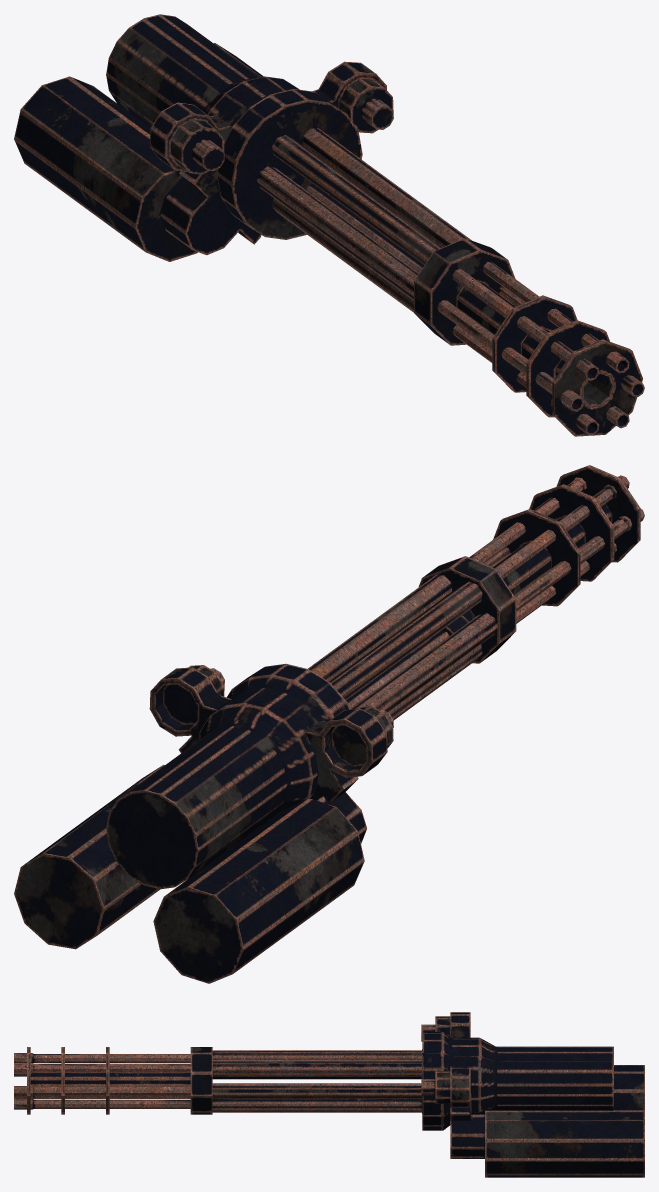
File: mini_gun_1.fbx
3 renders of one model, top to bottom at view 1: azimuth 30°, elevation 25°; view 2: azimuth 150°, elevation 25°; view 3: azimuth 270°, elevation 25°, orthographic. The views are drawn at different scales.
Visible parts, largest first — view 1: mini_gun; view 2: mini_gun; view 3: mini_gun.
Boxes of the visible parts, x1=… form: mini_gun: x1=14, y1=14, x2=644, y2=436; mini_gun: x1=14, y1=465, x2=644, y2=983; mini_gun: x1=14, y1=1012, x2=644, y2=1177.
Bounding box in the file's own units: 10.6 × 7.7 × 38.37.
1 material, 1 textured.
